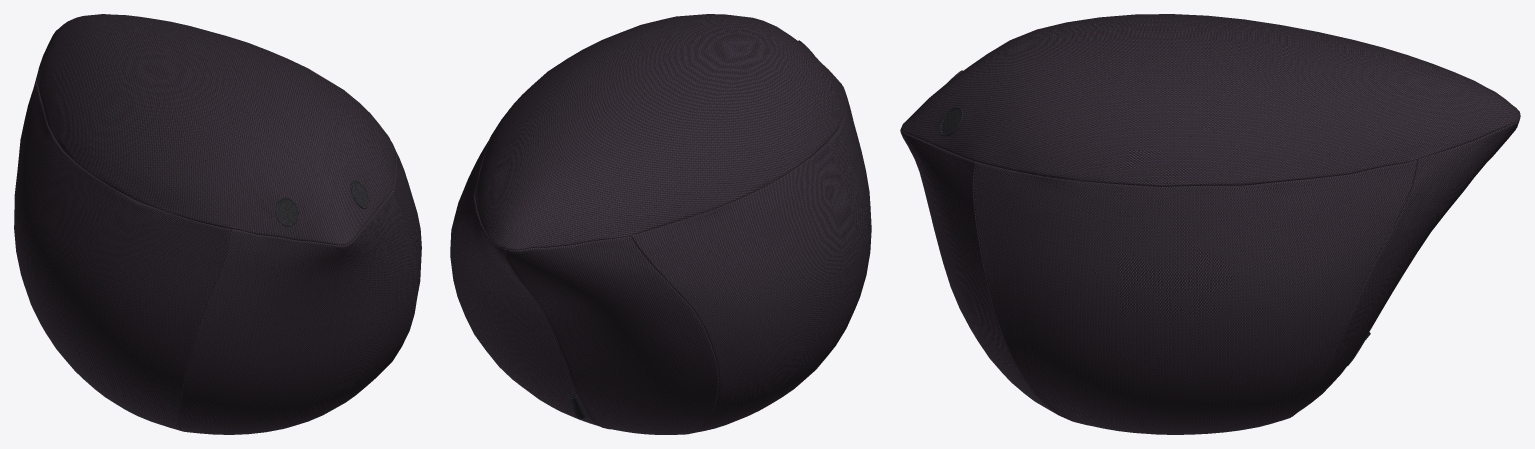
Rendered from Hulsta_Birdy_Pouf_mat(9).fbx.
3 renders of one model, left to right at view 1: azimuth 30°, elevation 25°; view 2: azimuth 150°, elevation 25°; view 3: azimuth 270°, elevation 25°, orthographic. The views are drawn at different scales.
Parts seen in each view (by area): view 1: Hulsta_Birdy_Pouf_mat9; view 2: Hulsta_Birdy_Pouf_mat9; view 3: Hulsta_Birdy_Pouf_mat9.
Boxes of the visible parts, x1,y1,x2,y2 form: Hulsta_Birdy_Pouf_mat9: (14,14,421,434); Hulsta_Birdy_Pouf_mat9: (450,14,871,434); Hulsta_Birdy_Pouf_mat9: (900,14,1520,434).
Bounding box in the file's own units: 50.8 × 74.33 × 48.
